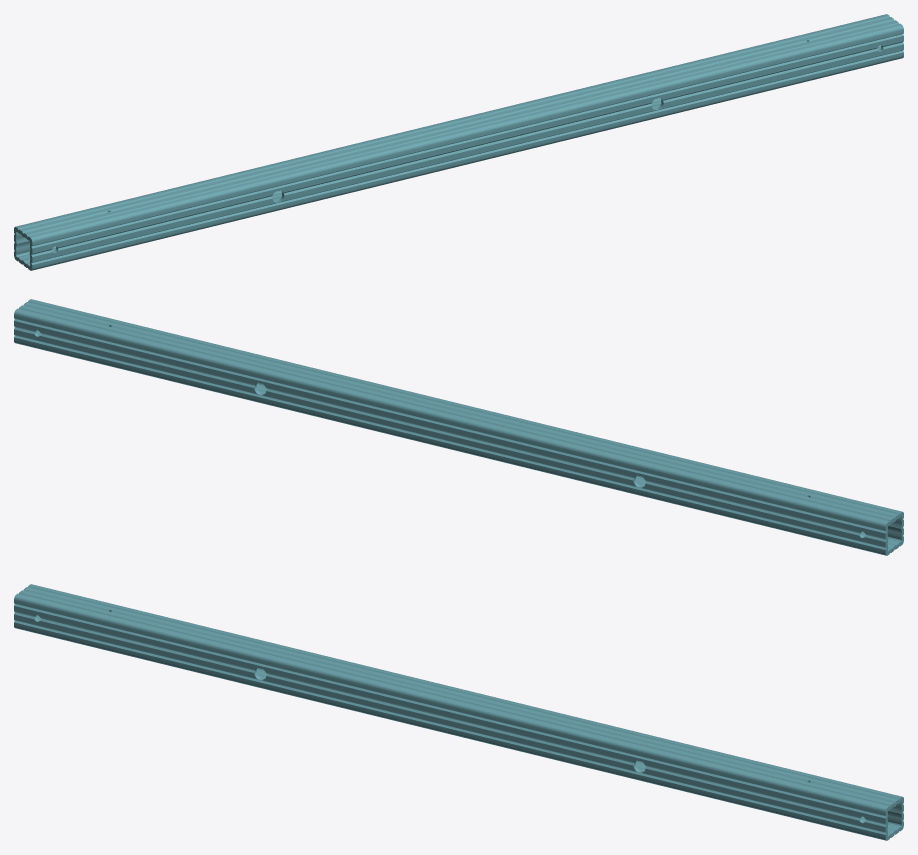
Rendered from table parts_17.fbx.
3 views of the same model, one above another, from view 1: azimuth 30°, elevation 25°; view 2: azimuth 150°, elevation 25°; view 3: azimuth 330°, elevation 25° (orthographic).
Visible parts, largest first — view 1: regframe_bar; view 2: regframe_bar; view 3: regframe_bar.
Part boxes in pixels (x1,y1,x2,y2): regframe_bar: (14,14,903,270); regframe_bar: (14,299,903,555); regframe_bar: (14,584,903,840).
Bounding box in the file's own units: 21.04 × 0.7618 × 0.7618.
